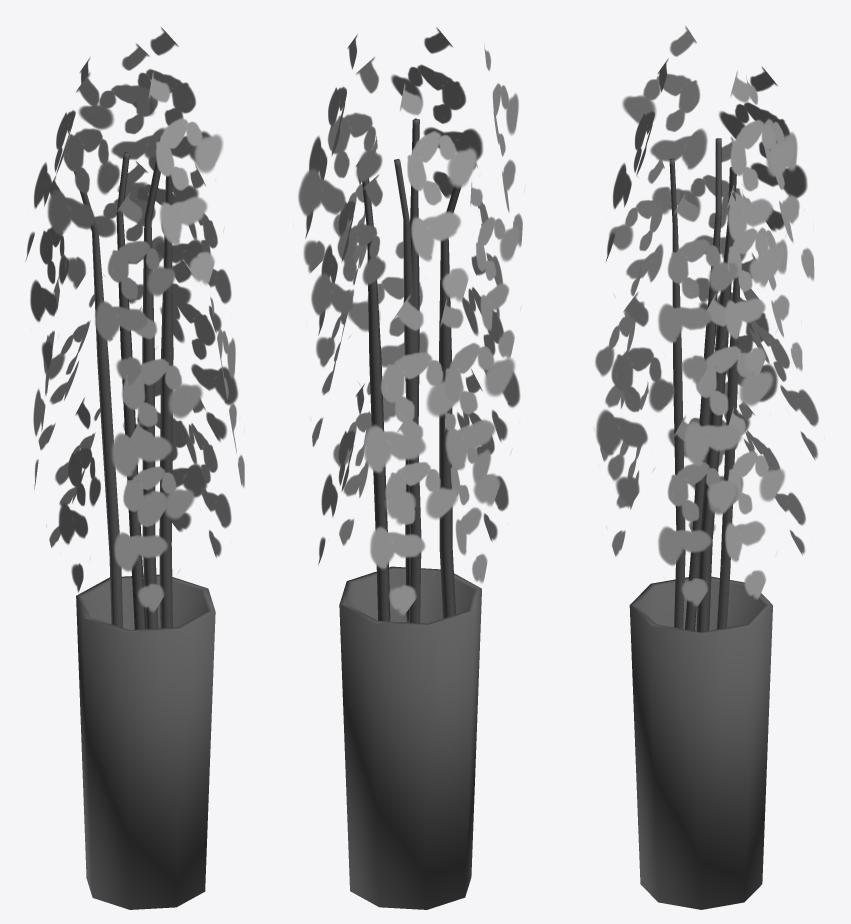
The model's file is radermachera_sinica.glb.
The picture shows the model from 3 angles, left to right: view 1: azimuth 30°, elevation 25°; view 2: azimuth 150°, elevation 25°; view 3: azimuth 270°, elevation 25°; orthographic projection. The views are drawn at different scales.
Visible parts, largest first — view 1: radermachera_sinica; view 2: radermachera_sinica; view 3: radermachera_sinica.
Part boxes in pixels (<box>): radermachera_sinica: <box>25,27,244,909</box>; radermachera_sinica: <box>298,27,522,909</box>; radermachera_sinica: <box>594,25,818,909</box>.
Bounding box in the file's own units: 0.4825 × 1.83 × 0.5284.
Materials: 3 (1 with a texture image).
